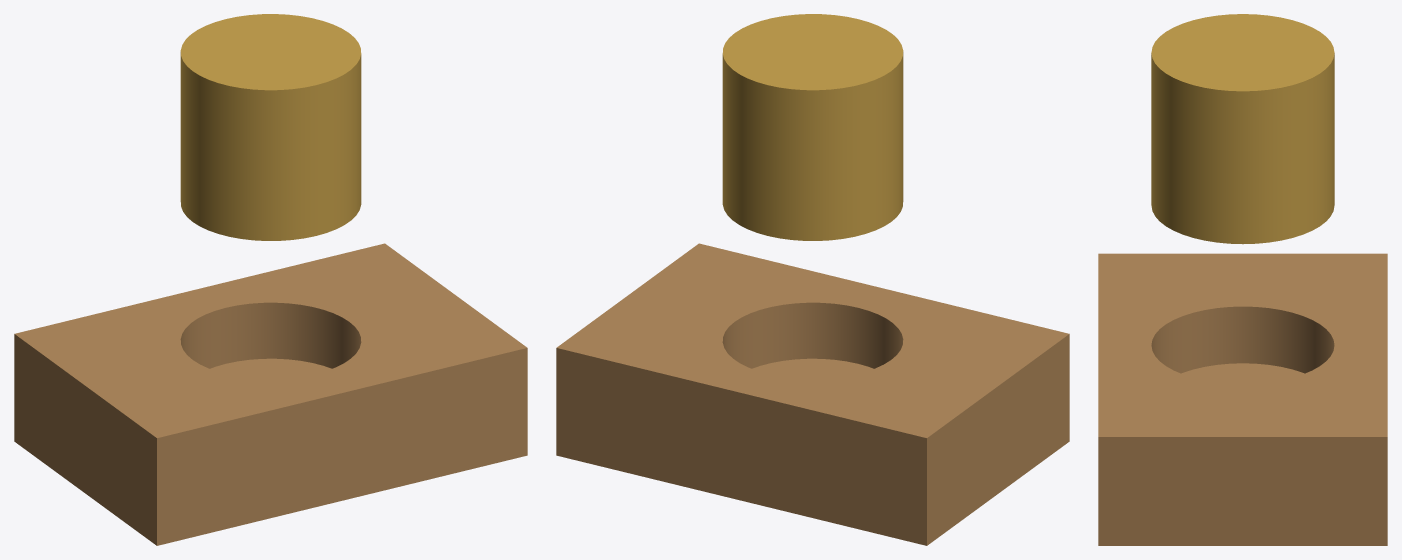
The model's file is asm_seat.glb.
The picture shows the model from 3 angles, left to right: view 1: azimuth 30°, elevation 25°; view 2: azimuth 150°, elevation 25°; view 3: azimuth 270°, elevation 25°; orthographic projection.
Visible parts, largest first — view 1: host, insert; view 2: host, insert; view 3: host, insert.
Boxes of the visible parts, x1,y1,x2,y2 form: host: (14,243,527,545); insert: (180,14,361,240); host: (556,243,1069,545); insert: (722,14,903,240); host: (1098,253,1387,545); insert: (1151,14,1334,244).
Bounding box in the file's own units: 0.09 × 0.092 × 0.06.
